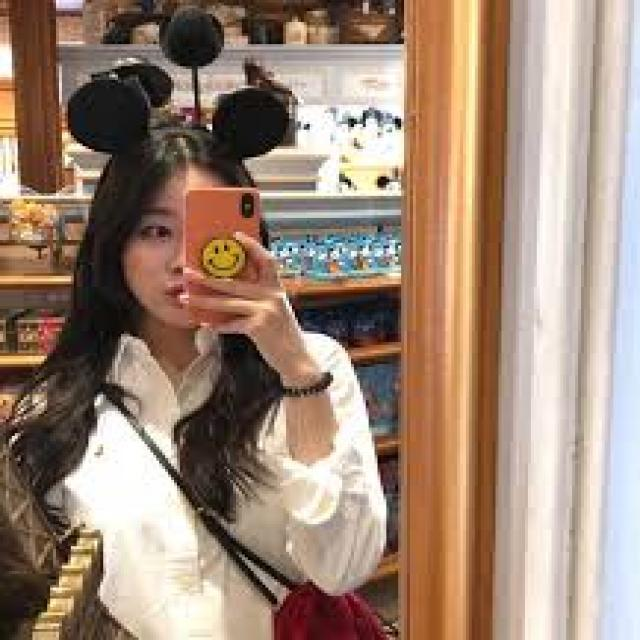Phone: (182, 186, 263, 325)
